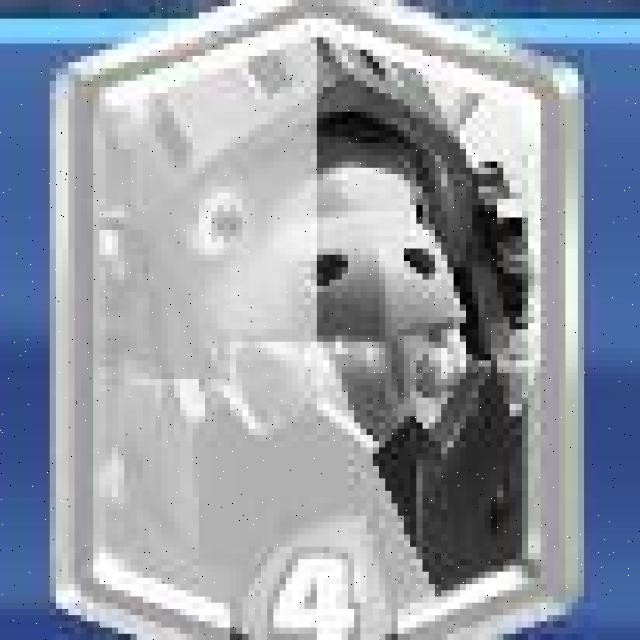Inferno_Dragon: (72, 12, 579, 639)
